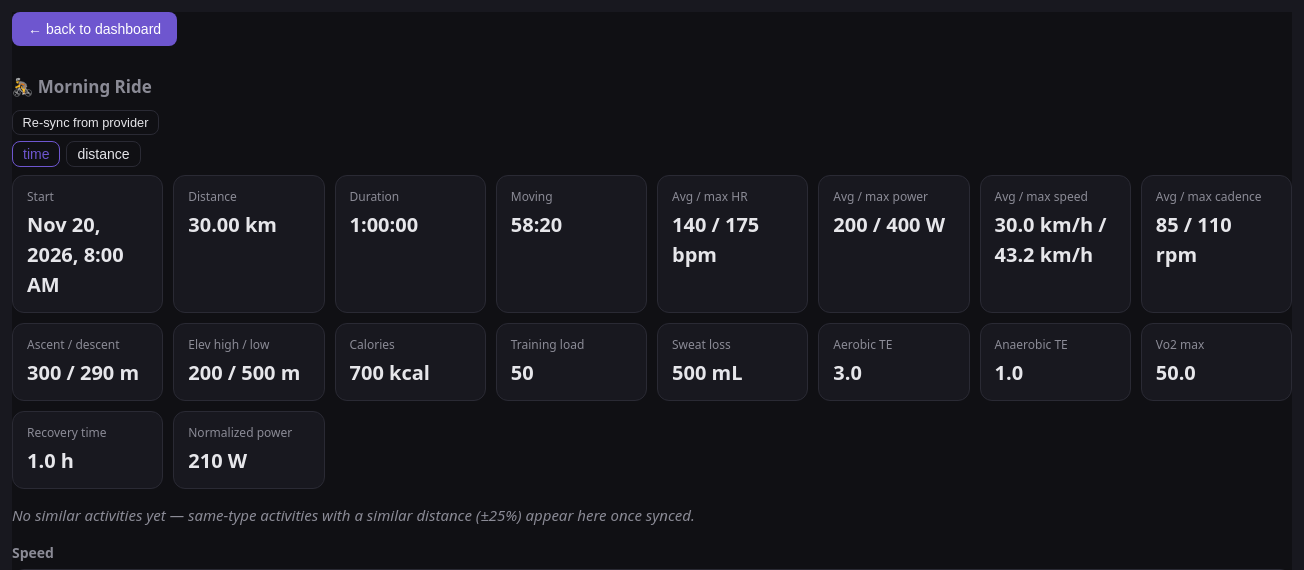
Test: ActivityDetail › resyncs from the owning provider and refreshes the view
This screenshot has width=1304, height=570.
Expected: the heading "🚴 Morning Ride" is shown, [12,75,152,98]
Click the button "Re-sync from provider" at (86, 122), box [12,110,159,134]
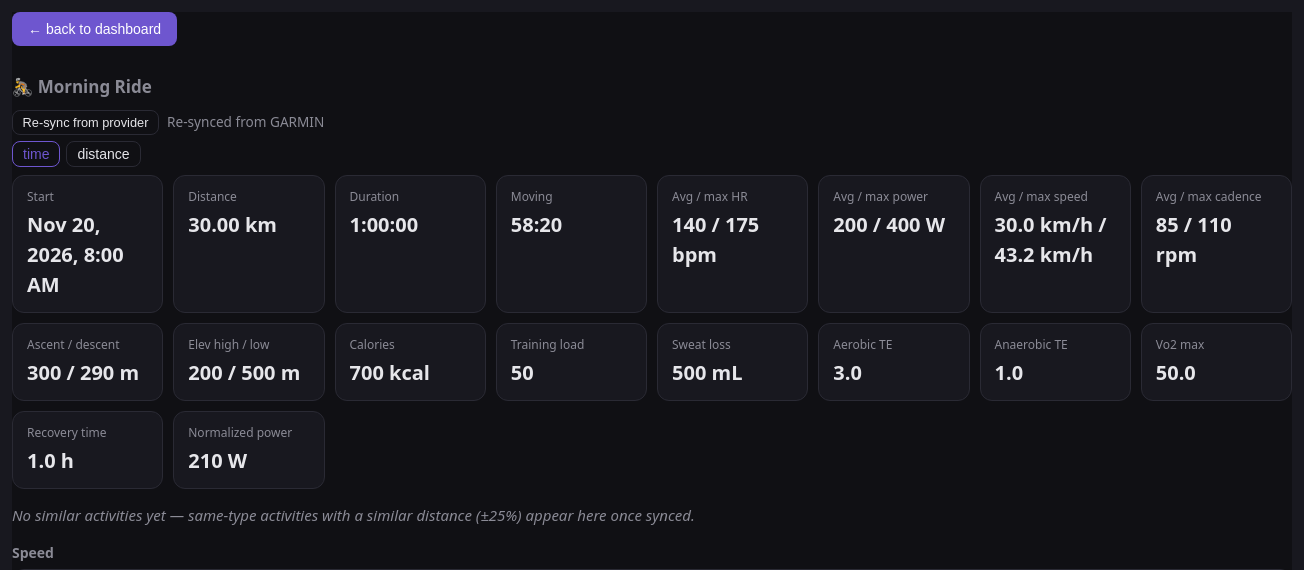
Expected: the text "Re-synced from GARMIN" is shown, [167,112,324,132]
